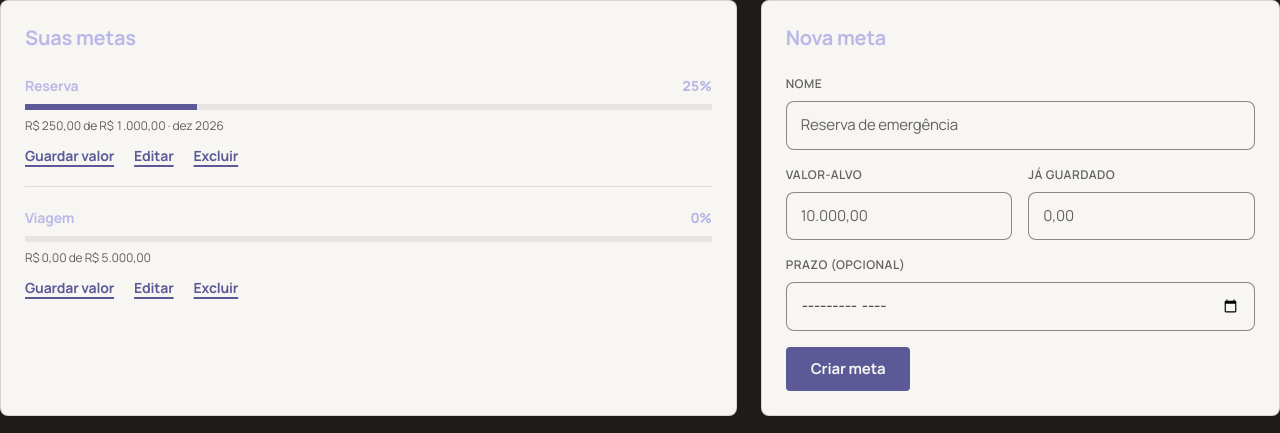
it: GoalsPage › edits a goal in the same form
The image size is (1280, 433).
Click the button named "Editar Reserva". click: (154, 156)
box: [134,146,174,166]
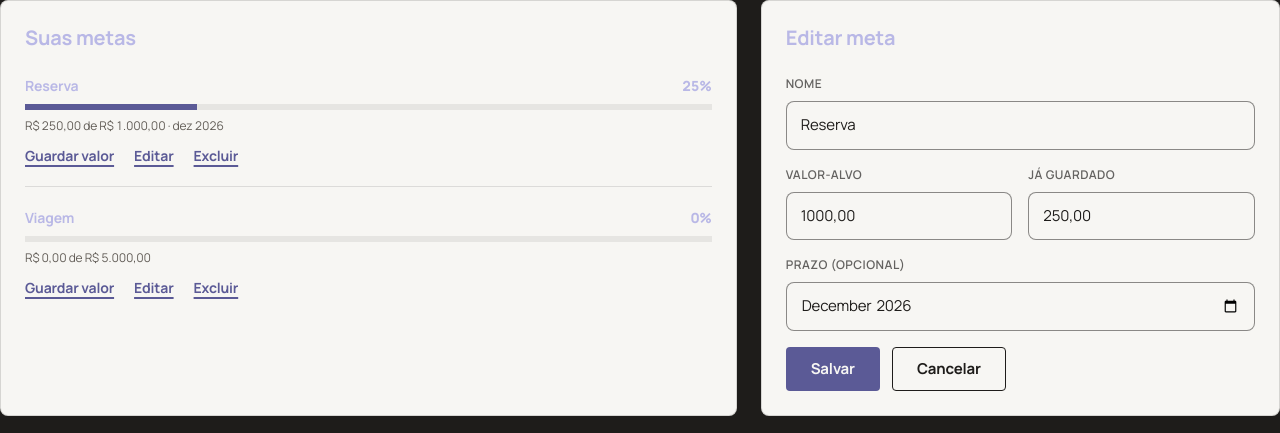
Expected: the heading "Editar meta" is shown, [786,25,895,51]
Expected: the field labelled "Nome" holds "Reserva"
Expected: the field labelled "Valor-alvo" holds "1000,00", [786,192,1012,240]
Replace the text in the field labelled "Nome" with "Reserva de emergência". click: (1020, 125)
box: [786,101,1255,150]
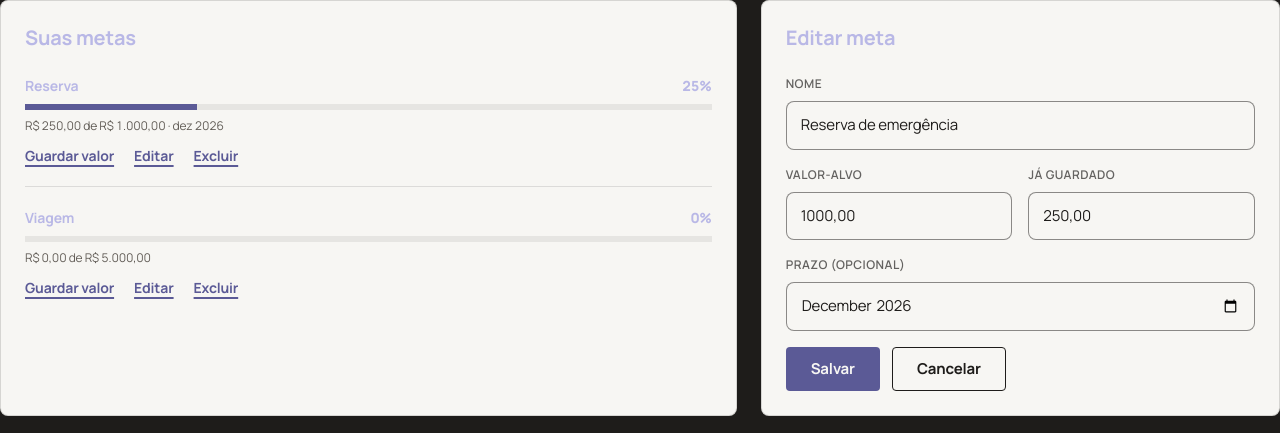
Clear the field labelled "Prazo (opcional)". click: (1020, 306)
box: [786,282,1255,330]
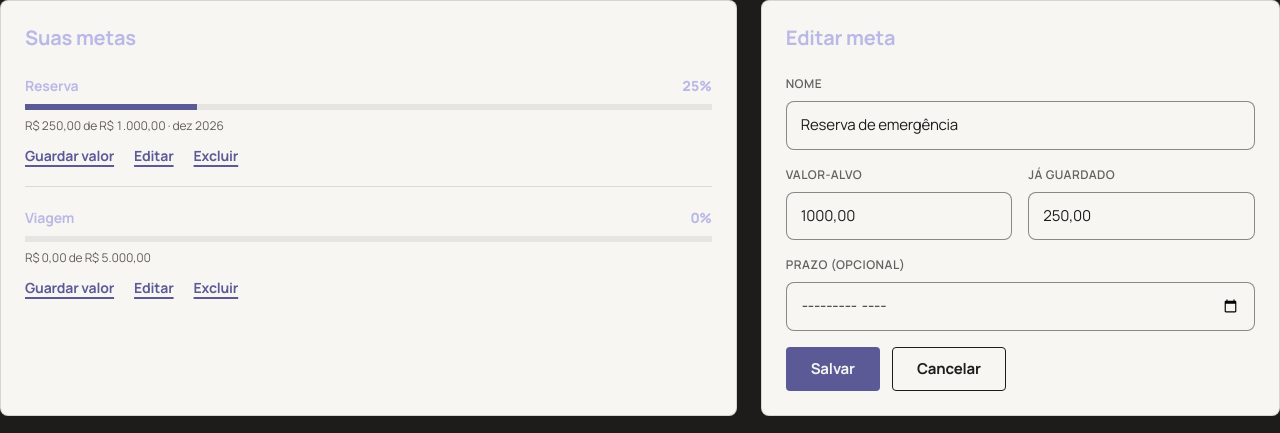
Click the button "Salvar". click: (833, 368)
box: [786,346,880,390]
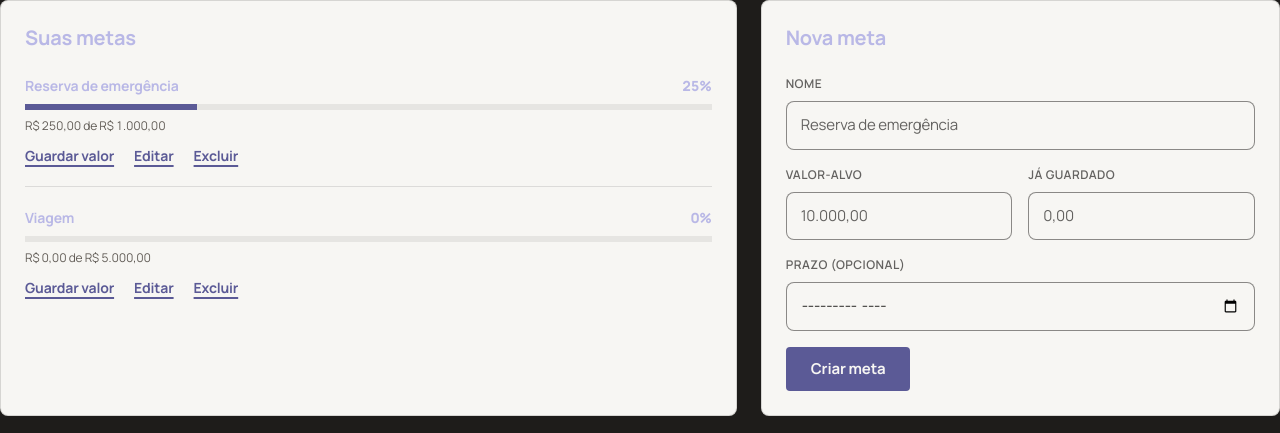
Expected: the heading "Nova meta" is shown, [786,25,886,51]
